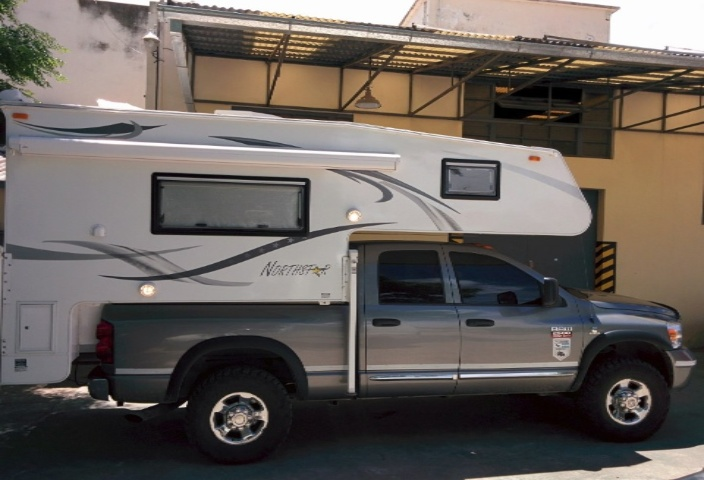truck: (1, 90, 696, 460)
